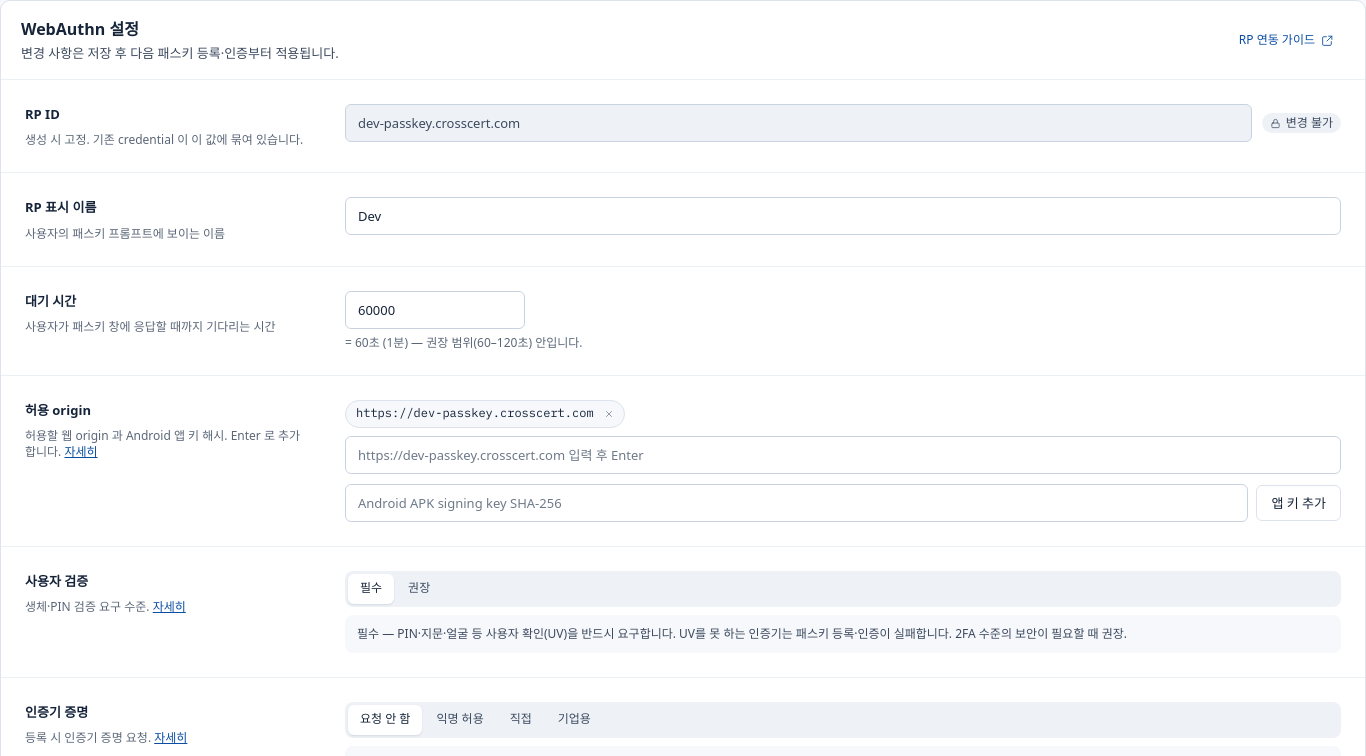
Test: WebauthnConfigTab V2 › 저장 실패는 다이얼로그 안 인라인 오류, 입력과 SaveBar 는 그대로
Replace the text in the number field labelled "대기 시간" with "120000" at (435, 310), box left=345, top=291, right=525, bottom=329
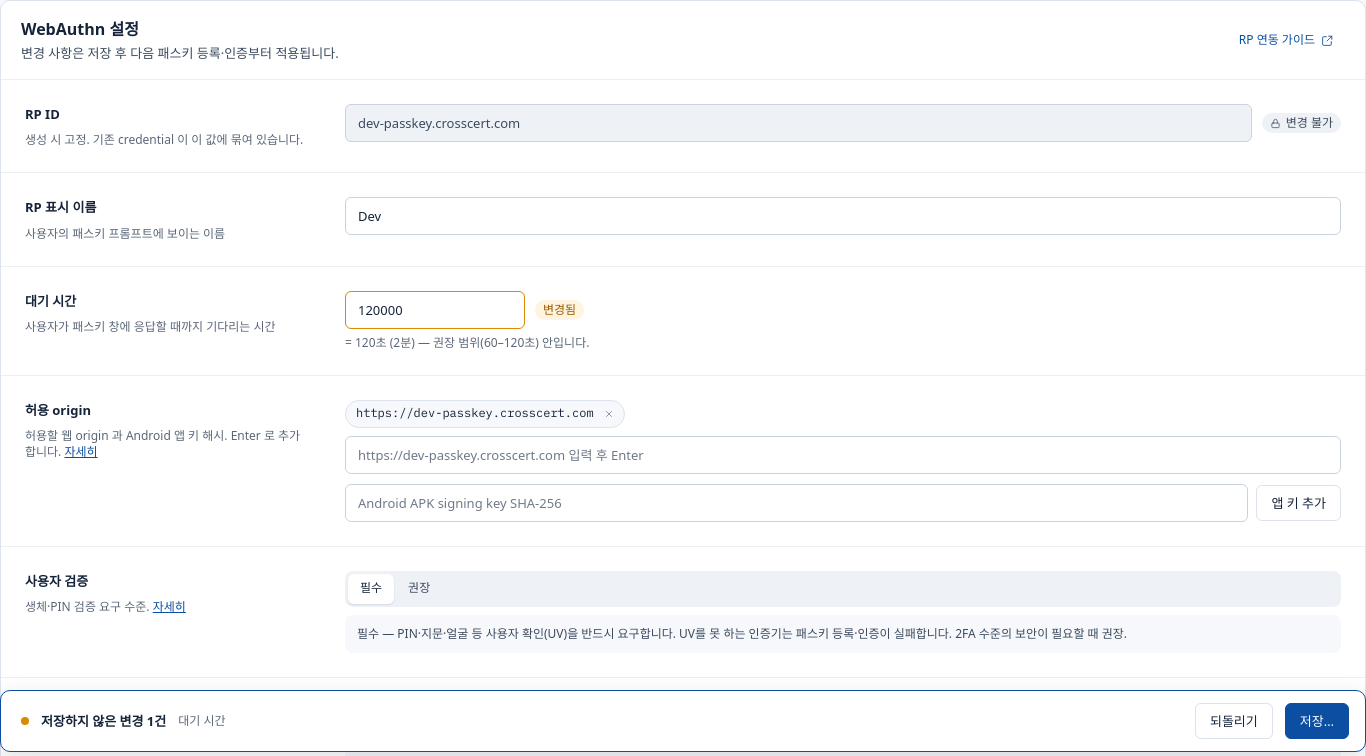
Click the button "저장…" at (1317, 721), box left=1285, top=703, right=1349, bottom=739
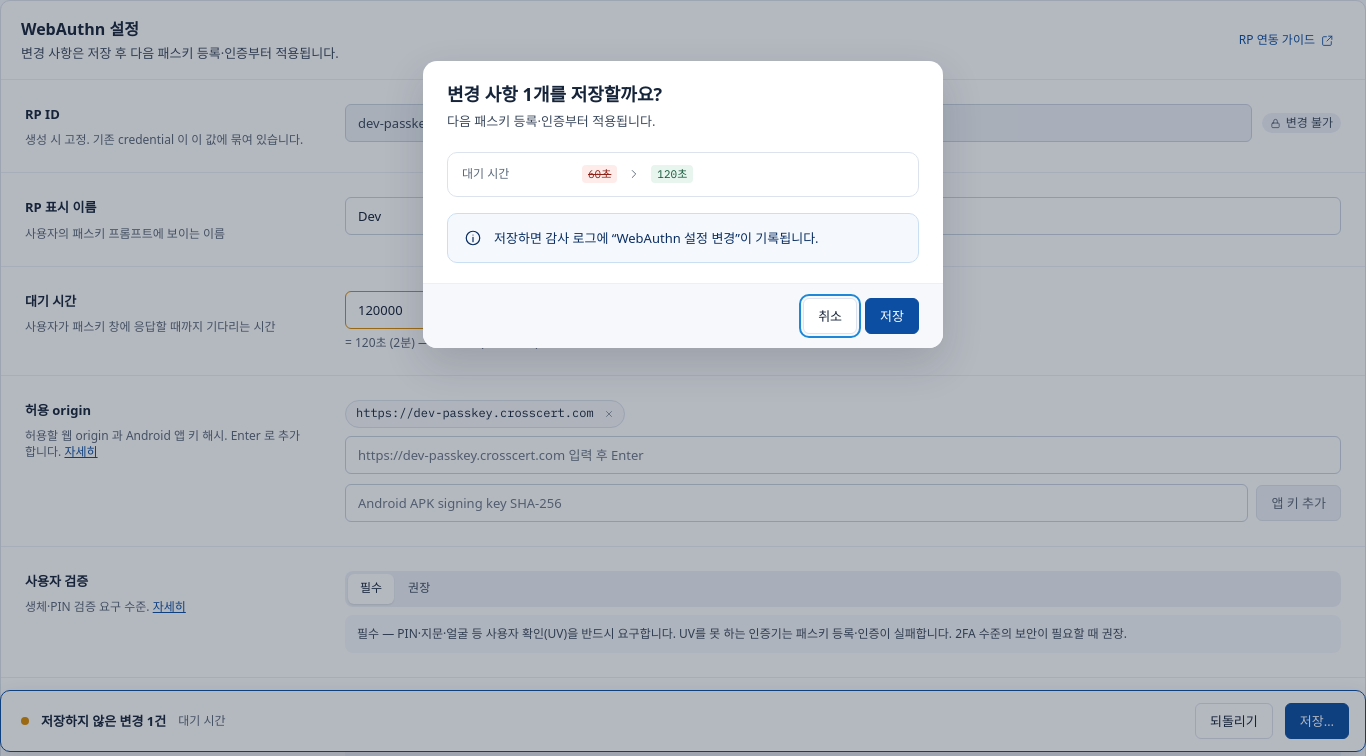
Click the button "저장" at (892, 316), box left=865, top=298, right=919, bottom=334
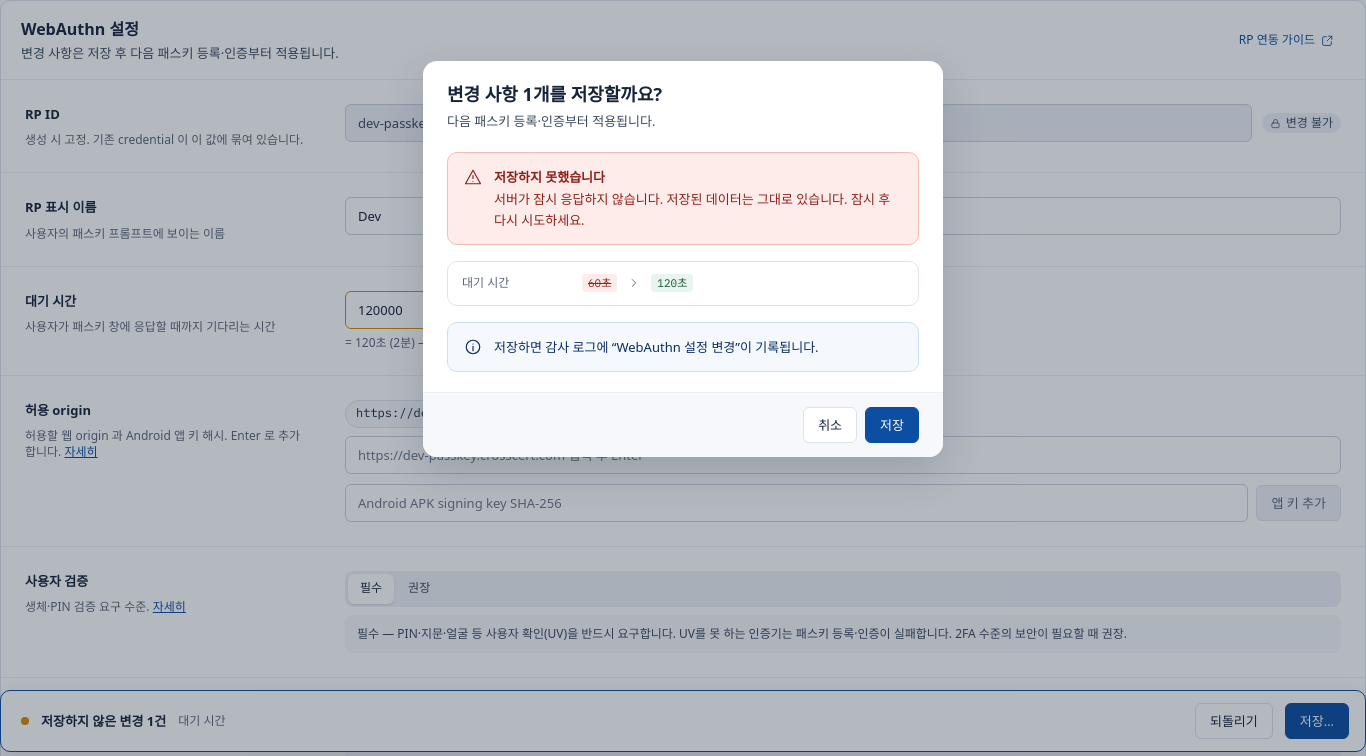
Check: the element named "저장되지 않은 변경" shows "저장하지 않은 변경 1건", box left=0, top=690, right=1365, bottom=752
Check: the text "저장하지 못했습니다" is shown, box left=494, top=168, right=605, bottom=186
Check: the text "서버가 잠시 응답하지 않습니다. 저장된 데이터는 그대로 있습니다. 잠시 후 다시 시도하세요." is shown, box left=494, top=189, right=902, bottom=230
